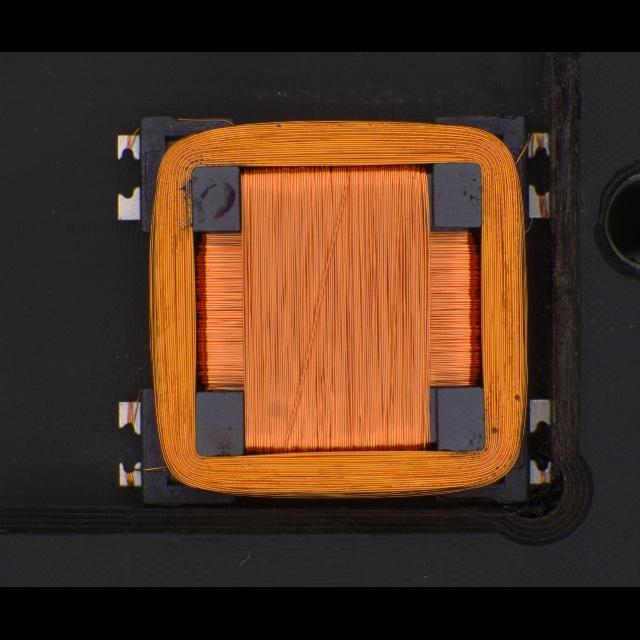Winding_Z: (127, 115, 530, 503)
